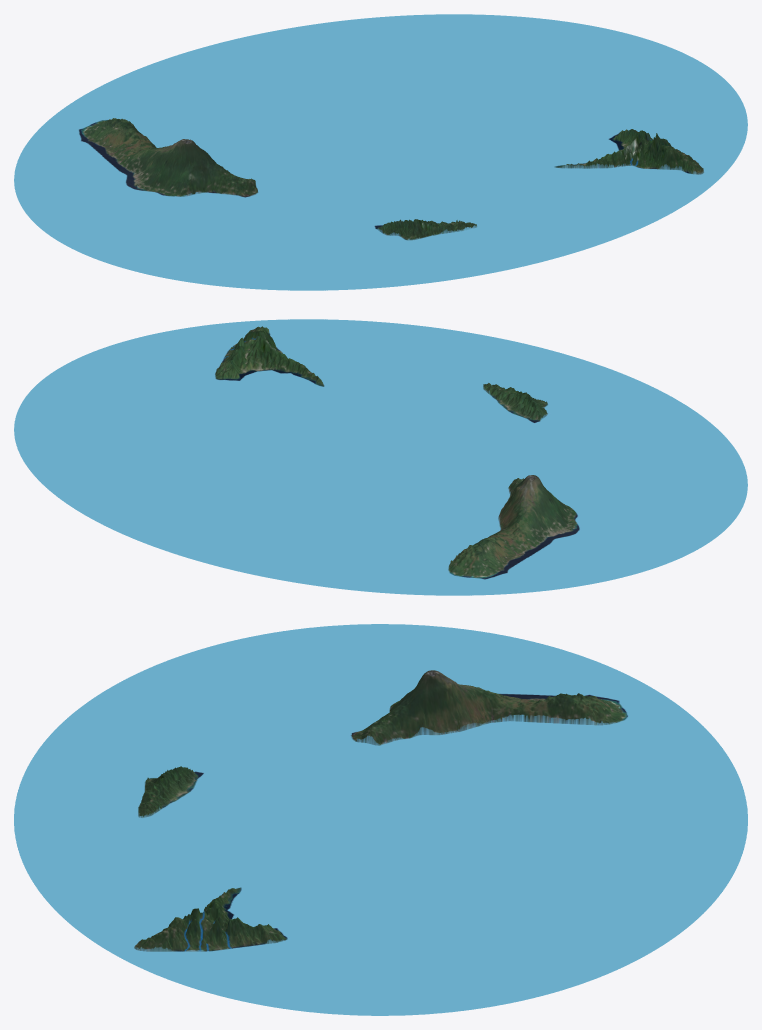
File: COM-previa-terrain.glb
3 views of the same model, one above another, from view 1: azimuth 30°, elevation 25°; view 2: azimuth 150°, elevation 25°; view 3: azimuth 270°, elevation 25° (orthographic). The views are drawn at different scales.
Parts seen in each view (by area): view 1: Comores; view 2: Comores; view 3: Comores.
Boxes of the visible parts, box(x1,y1,x2,y2) form: Comores: box(14, 14, 747, 290); Comores: box(14, 319, 747, 595); Comores: box(14, 624, 747, 1015).
Bounding box in the file's own units: 2.61 × 0.1435 × 2.07.
Materials: 1 (1 with a texture image).
